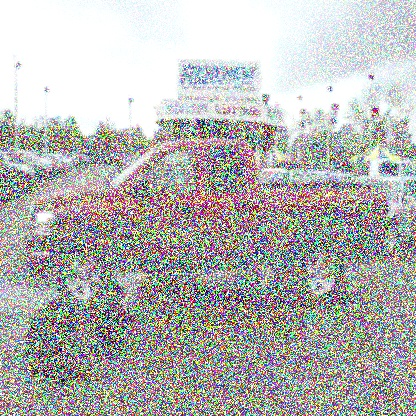Vehicle: (25, 137, 390, 311)
